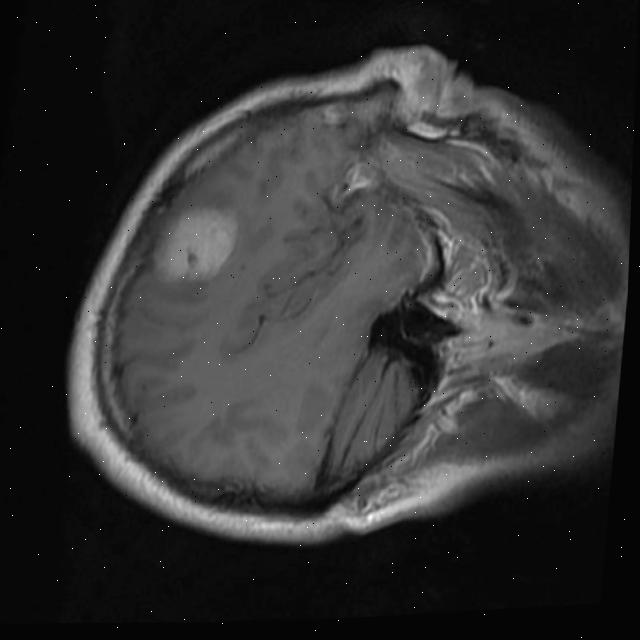Meningioma: (150, 200, 240, 291)
